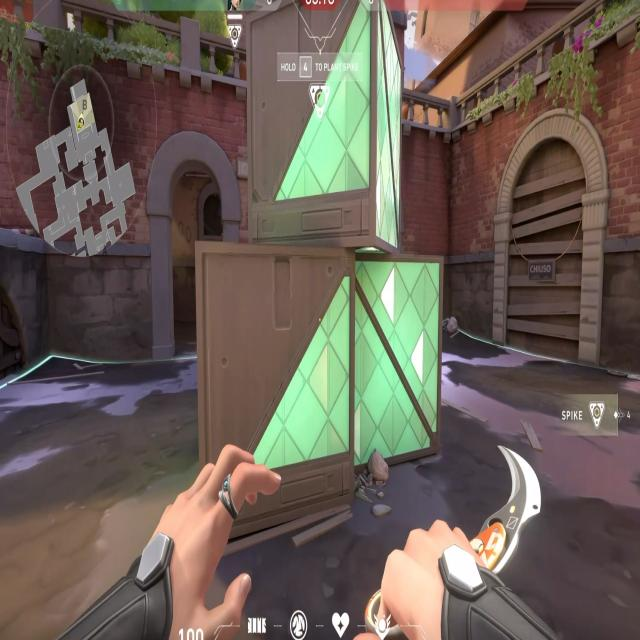B_Site_Box: (174, 0, 466, 524)
